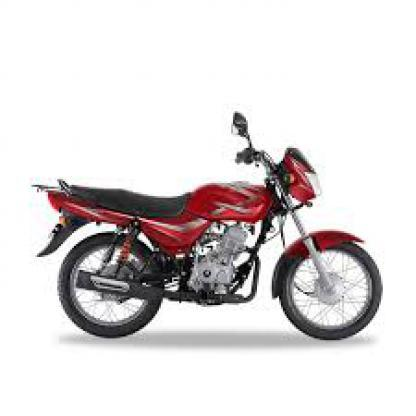Motorcycle: (16, 106, 392, 362)
